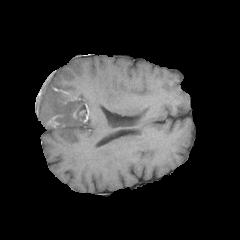glioma: (36, 71, 95, 130)
